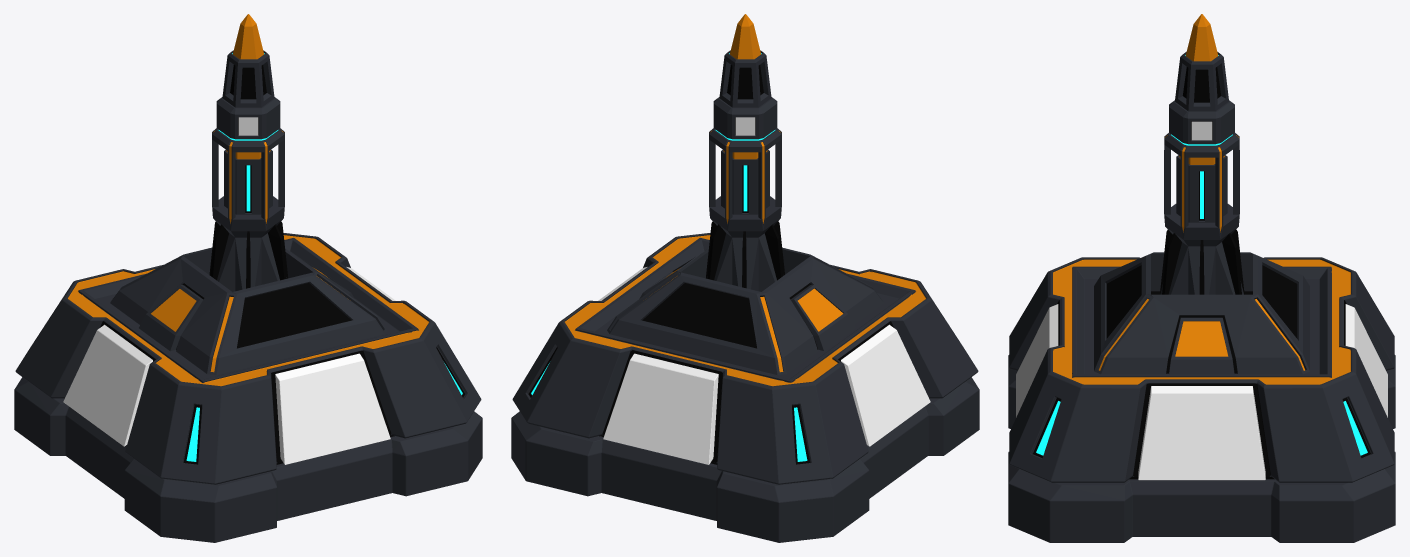
File: SM_Turret_RocketPod.fbx
3 views of the same model, side by side, from view 1: azimuth 30°, elevation 25°; view 2: azimuth 150°, elevation 25°; view 3: azimuth 270°, elevation 25° (orthographic). The views are drawn at different scales.
Parts seen in each view (by area): view 1: SM_Turret_RocketPod_Base, SM_Turret_RocketPod_Launcher; view 2: SM_Turret_RocketPod_Base, SM_Turret_RocketPod_Launcher; view 3: SM_Turret_RocketPod_Base, SM_Turret_RocketPod_Launcher.
Boxes of the visible parts, left/top/right/bottom form: SM_Turret_RocketPod_Base: left=14, top=233, right=482, bottom=542; SM_Turret_RocketPod_Launcher: left=209, top=14, right=288, bottom=291; SM_Turret_RocketPod_Base: left=511, top=233, right=979, bottom=542; SM_Turret_RocketPod_Launcher: left=706, top=14, right=784, bottom=291; SM_Turret_RocketPod_Base: left=1008, top=252, right=1395, bottom=542; SM_Turret_RocketPod_Launcher: left=1160, top=14, right=1244, bottom=294.
Size of the model in its own units: 100 by 127 by 100.
